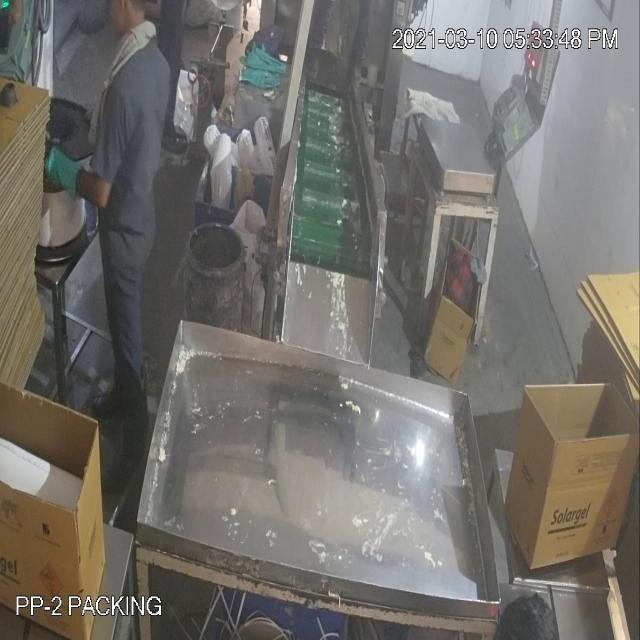gloves: (41, 132, 86, 209)
